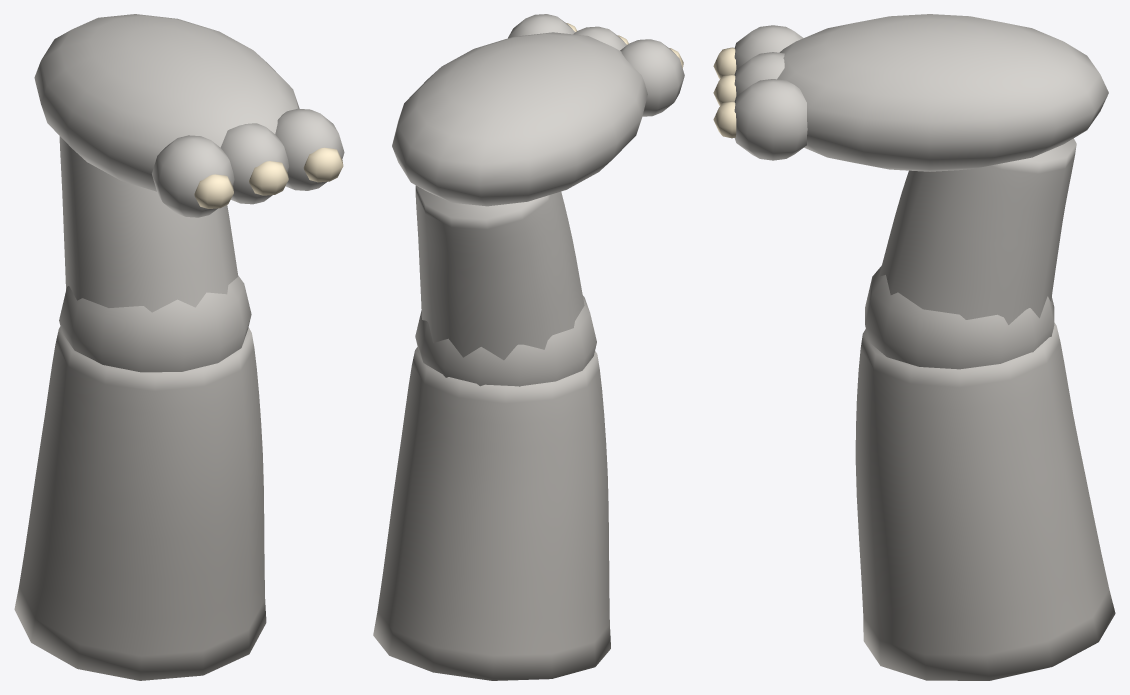
File: part_leg_little.glb
The picture shows the model from 3 angles, left to right: view 1: azimuth 30°, elevation 25°; view 2: azimuth 150°, elevation 25°; view 3: azimuth 270°, elevation 25°; orthographic projection. The views are drawn at different scales.
Visible parts, largest first — view 1: swing.001_painted_mesh.001; view 2: swing.001_painted_mesh.001; view 3: swing.001_painted_mesh.001.
Part boxes in pixels (<box>): swing.001_painted_mesh.001: <box>14,14,344,680</box>; swing.001_painted_mesh.001: <box>373,14,684,680</box>; swing.001_painted_mesh.001: <box>713,14,1115,680</box>.
Size of the model in its own units: 0.34 by 0.9003 by 0.5388.
